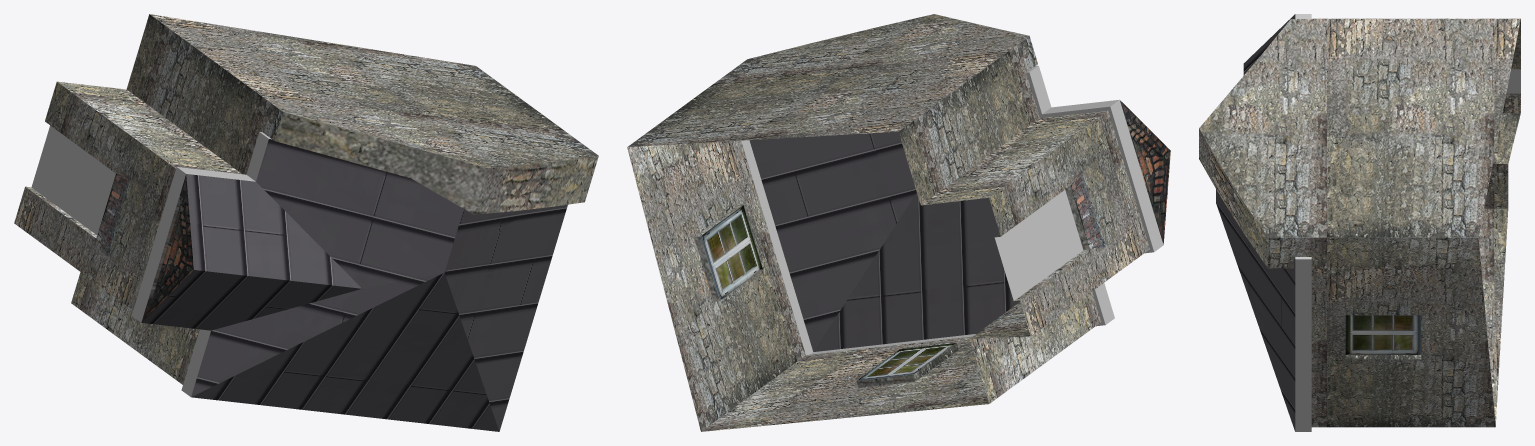
Rendered from Toompuiestee_30_2.obj.
3 views of the same model, side by side, from view 1: azimuth 30°, elevation 25°; view 2: azimuth 150°, elevation 25°; view 3: azimuth 270°, elevation 25° (orthographic). The views are drawn at different scales.
Visible parts, largest first — view 1: Toompuiestee_30_2; view 2: Toompuiestee_30_2; view 3: Toompuiestee_30_2.
Part boxes in pixels (left/top/right/bottom): Toompuiestee_30_2: left=14, top=14, right=598, bottom=431; Toompuiestee_30_2: left=627, top=14, right=1170, bottom=431; Toompuiestee_30_2: left=1199, top=14, right=1520, bottom=431.
Size of the model in its own units: 6.59 by 5.35 by 4.85.
